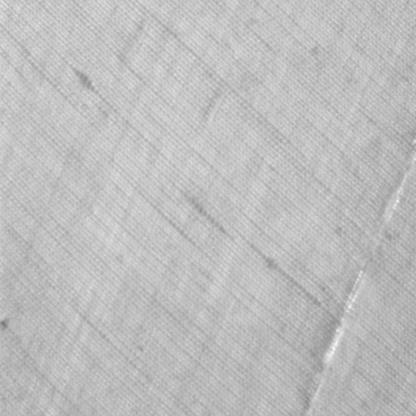thread error: (296, 150, 416, 413)
